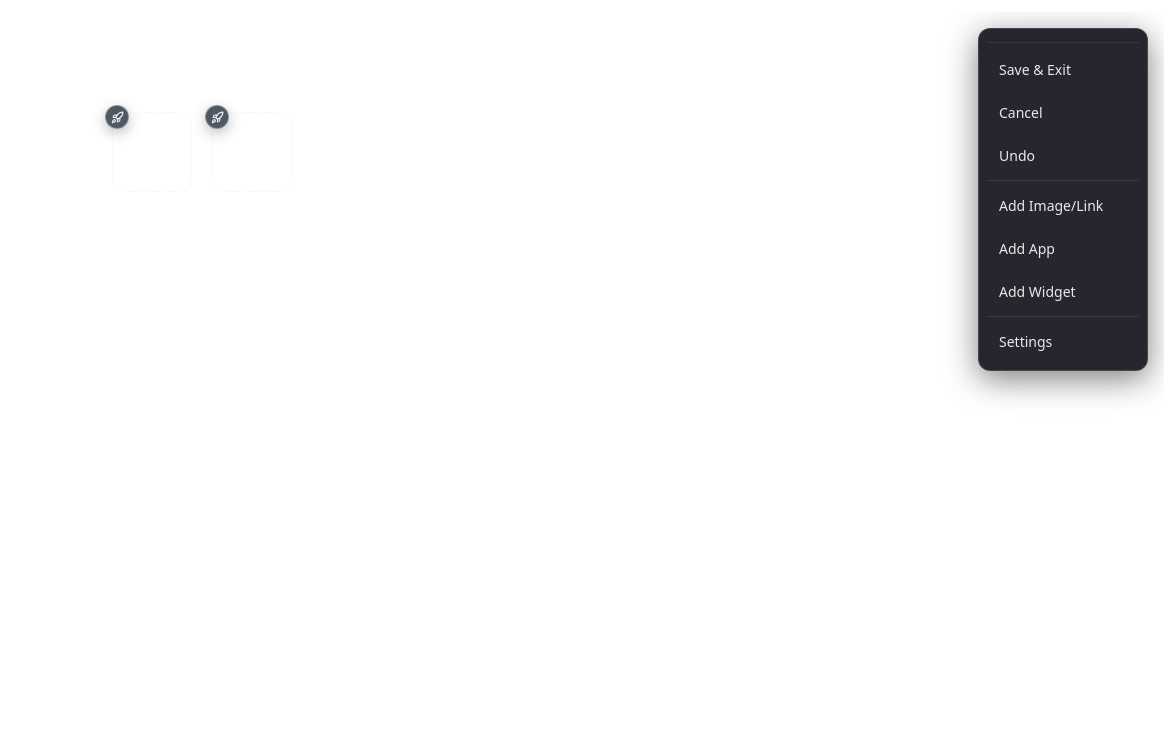
IconGrid › right-click menu renders portaled into document.body and closes via overlay/Escape
Right-click the button with class "app-icon" showing "T Terminal" at x=152, y=152, box x1=112 y1=112 x2=192 y2=192
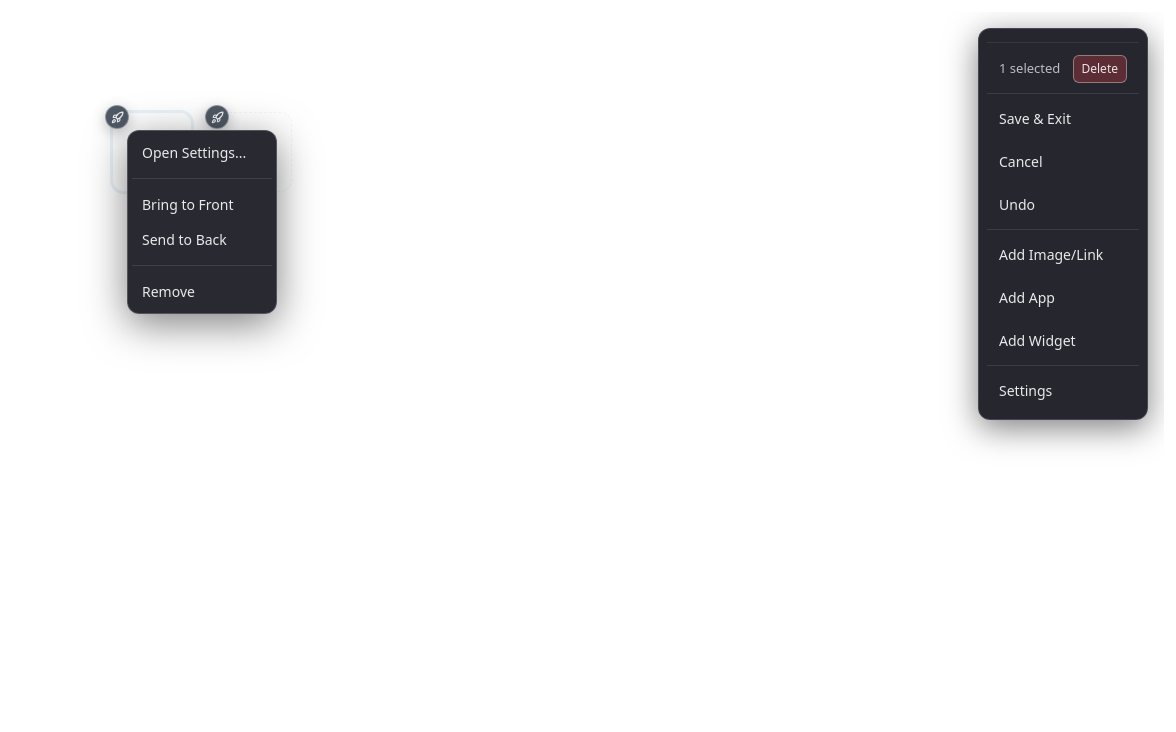
Now the element with class "context-menu" is shown, box x1=127 y1=130 x2=277 y2=314
Note: The full-screen overlay closes it on an outside click.
Click the button with class "context-menu-overlay" at x=588, y=372, box x1=12 y1=12 x2=1164 y2=731
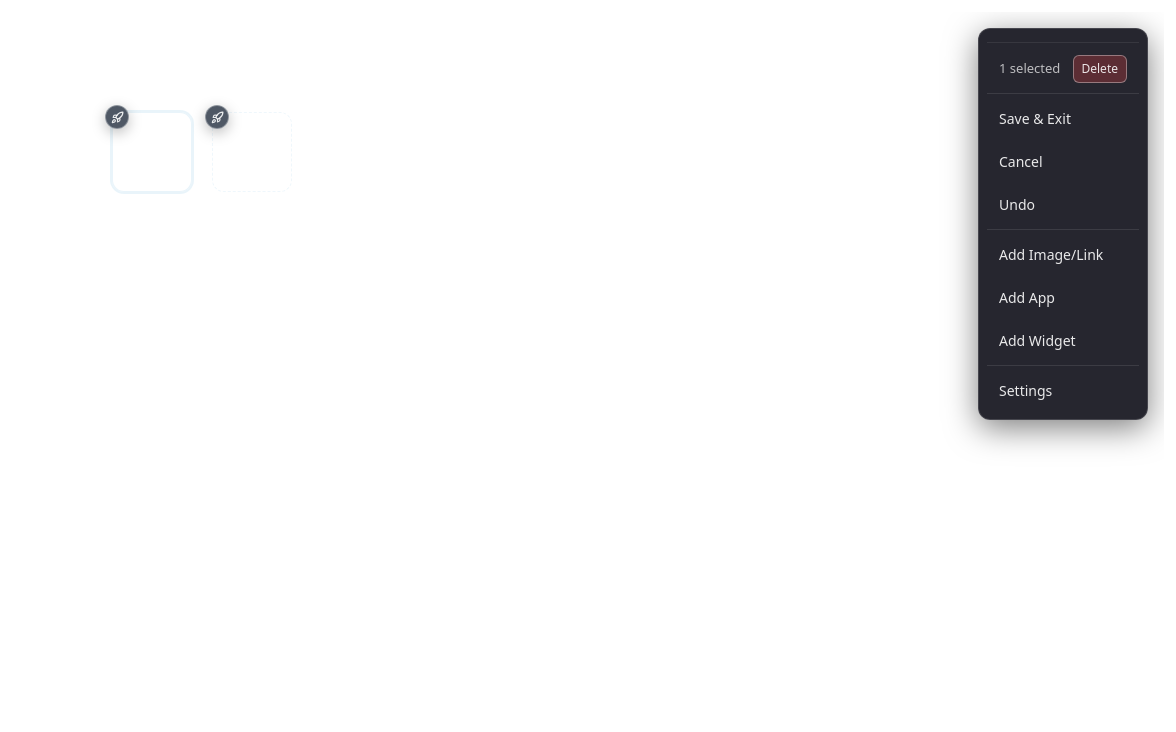
Now the element with class "context-menu" is gone
Note: Escape closes it too.
Right-click the button with class "app-icon" showing "T Terminal" at x=152, y=152, box x1=112 y1=112 x2=192 y2=192
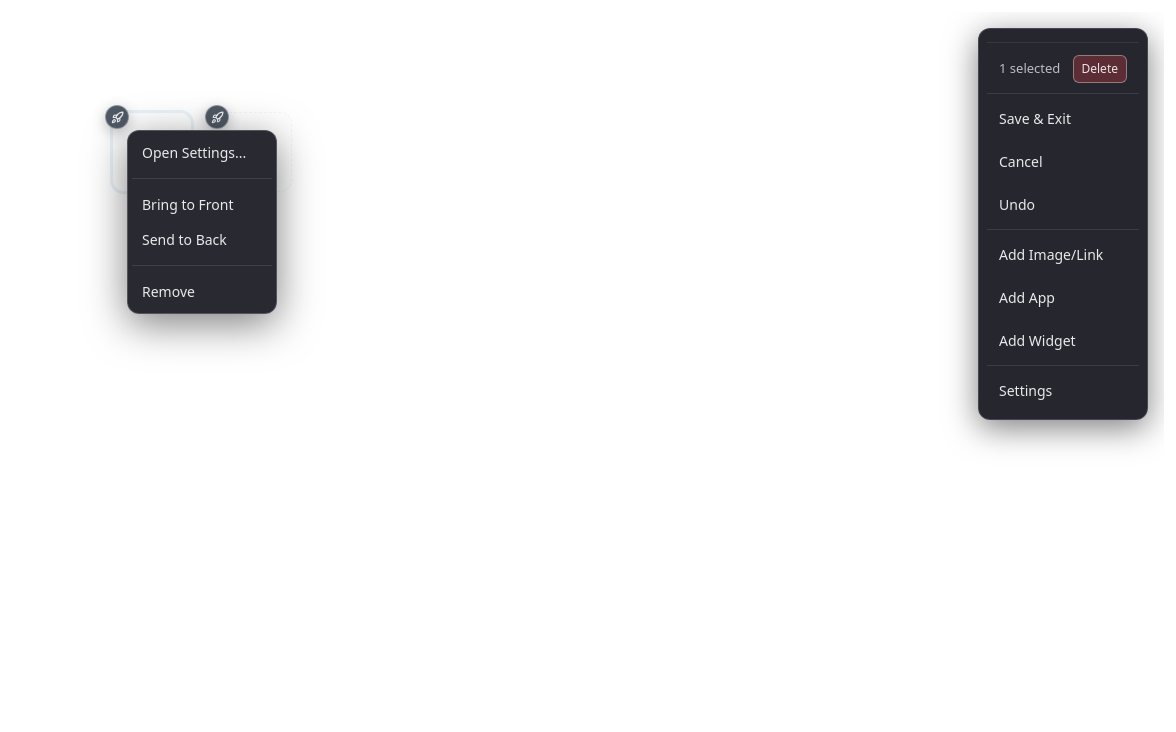
Now the element with class "context-menu" is shown, box x1=127 y1=130 x2=277 y2=314
Press Escape
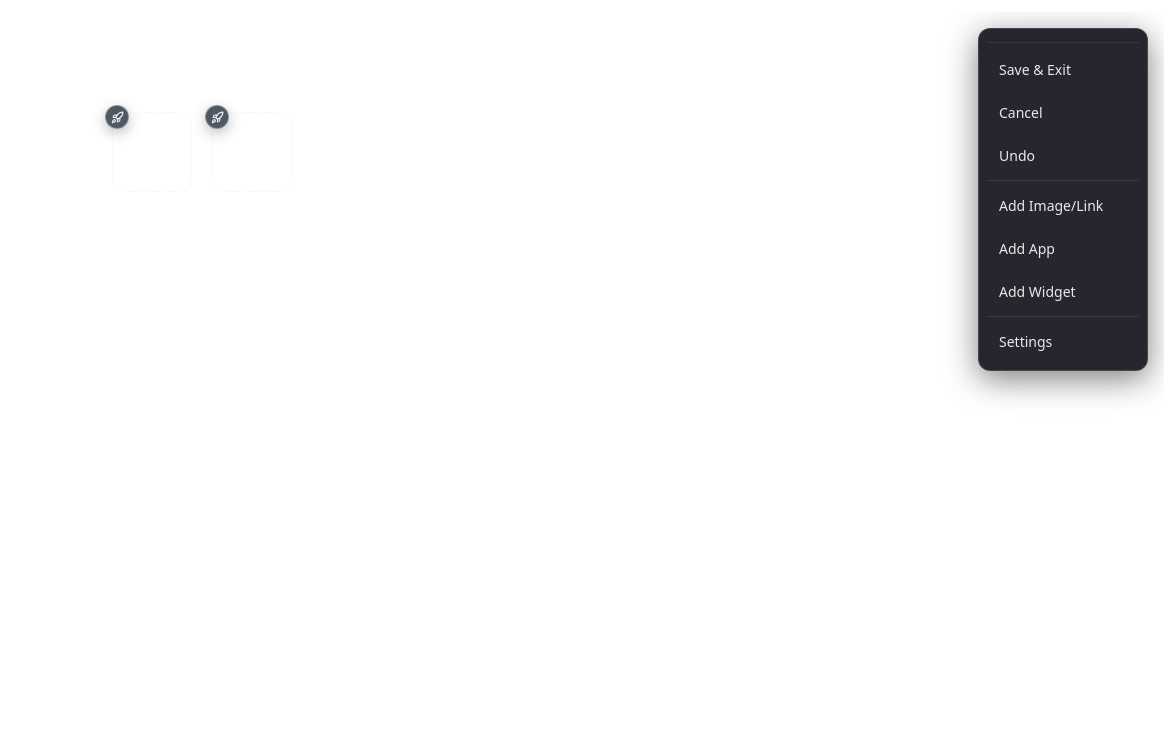
Now the element with class "context-menu" is gone
